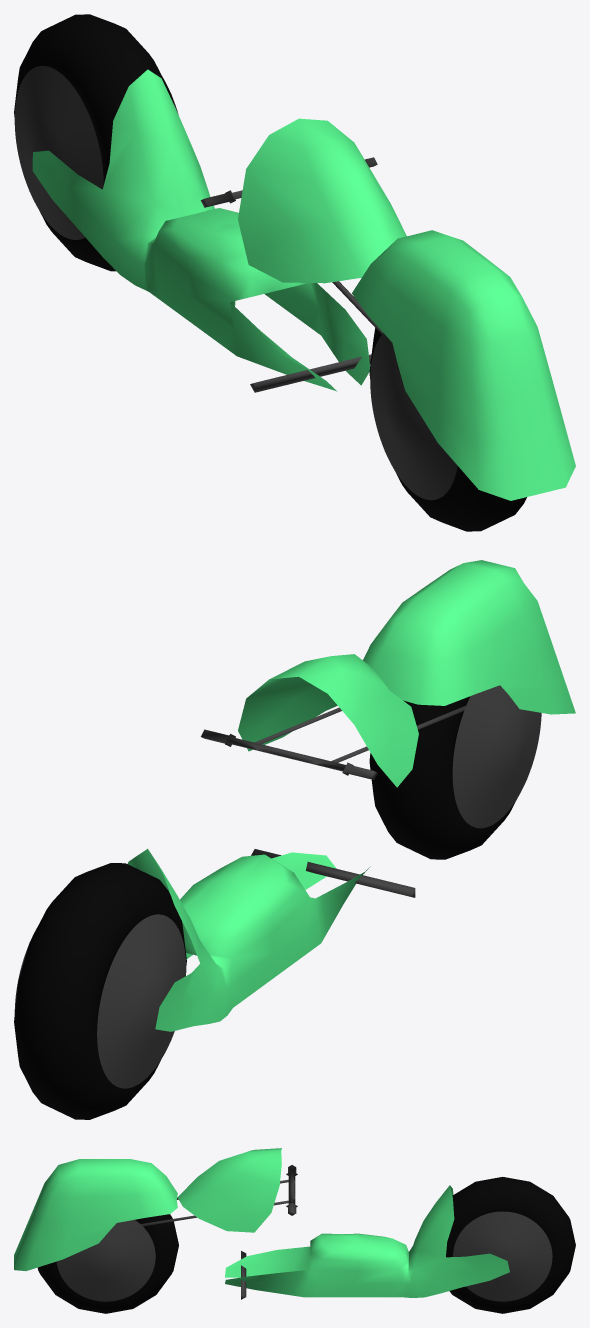
File: hoverbike.obj
3 renders of one model, top to bottom at view 1: azimuth 30°, elevation 25°; view 2: azimuth 150°, elevation 25°; view 3: azimuth 270°, elevation 25°, orthographic. The views are drawn at different scales.
Visible parts, largest first — view 1: Wheel_Cover_Cube.001, Chassis_Cube.004, Front_body_Cube.002, Rear_Wheel_Torus.002, Hubcaps.001_Cylinder.004, Hubcaps_Cylinder.001, Front_Wheel_Torus.001, Foot_Bar_Cylinder.005, Handlebars_Cylinder.003; view 2: Rear_Wheel_Torus.002, Wheel_Cover_Cube.001, Chassis_Cube.004, Front_body_Cube.002, Hubcaps.001_Cylinder.004, Front_Wheel_Torus.001, Hubcaps_Cylinder.001, Handlebars_Cylinder.003, Foot_Bar_Cylinder.005; view 3: Chassis_Cube.004, Wheel_Cover_Cube.001, Rear_Wheel_Torus.002, Front_body_Cube.002, Hubcaps.001_Cylinder.004, Hubcaps_Cylinder.001, Front_Wheel_Torus.001, Handlebars_Cylinder.003.
Boxes of the visible parts, x1,y1,x2,y2 form: Wheel_Cover_Cube.001: (352,230,575,500); Chassis_Cube.004: (32,69,370,391); Front_body_Cube.002: (238,118,406,283); Rear_Wheel_Torus.002: (14,14,174,271); Hubcaps.001_Cylinder.004: (14,66,178,239); Hubcaps_Cylinder.001: (370,333,457,500); Front_Wheel_Torus.001: (369,328,526,531); Foot_Bar_Cylinder.005: (250,354,371,392); Handlebars_Cylinder.003: (200,157,382,334); Rear_Wheel_Torus.002: (14,863,186,1119); Wheel_Cover_Cube.001: (363,560,575,714); Chassis_Cube.004: (127,848,370,1031); Front_body_Cube.002: (238,654,418,787); Hubcaps.001_Cylinder.004: (14,914,186,1088); Front_Wheel_Torus.001: (369,696,516,859); Hubcaps_Cylinder.001: (452,685,541,828); Handlebars_Cylinder.003: (201,705,466,779); Foot_Bar_Cylinder.005: (251,849,415,897); Chassis_Cube.004: (225,1185,509,1297); Wheel_Cover_Cube.001: (14,1159,177,1271); Rear_Wheel_Torus.002: (446,1177,575,1313); Front_body_Cube.002: (177,1148,281,1232); Hubcaps.001_Cylinder.004: (453,1211,552,1301); Hubcaps_Cylinder.001: (56,1220,155,1301); Front_Wheel_Torus.001: (37,1214,178,1313); Handlebars_Cylinder.003: (141,1165,297,1226).
Size of the model in its own units: 0.5226 by 0.849 by 2.69.
